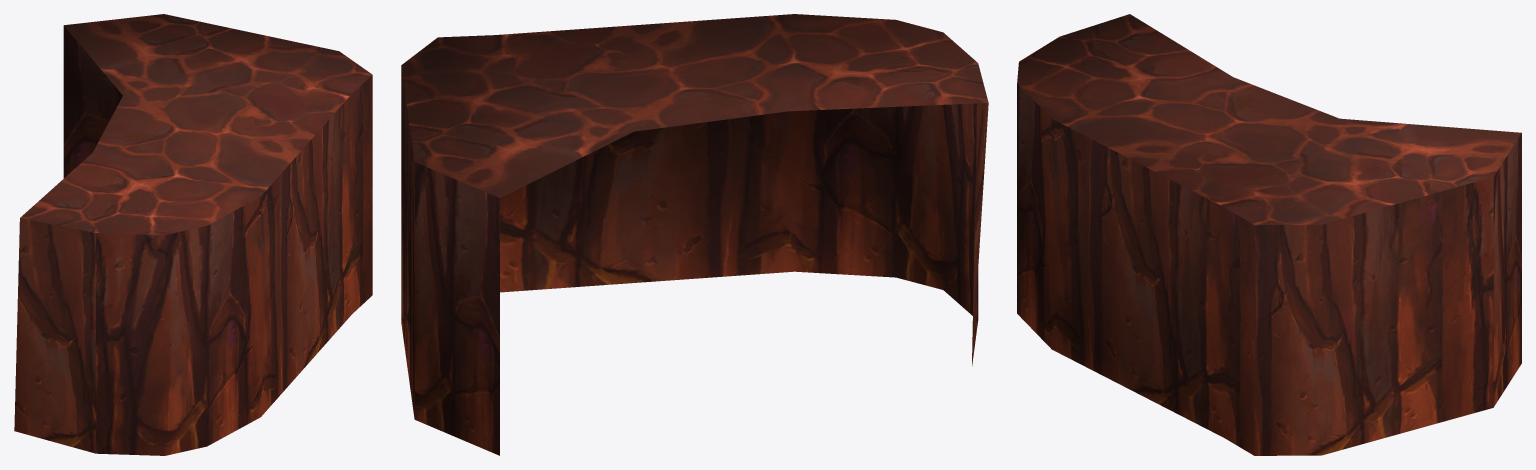
Rendered from terrain05.FBX.
The picture shows the model from 3 angles, left to right: view 1: azimuth 30°, elevation 25°; view 2: azimuth 150°, elevation 25°; view 3: azimuth 270°, elevation 25°; orthographic projection. The views are drawn at different scales.
Parts seen in each view (by area): view 1: terrain05; view 2: terrain05; view 3: terrain05.
Part boxes in pixels (x1,y1,x2,y2): terrain05: [14, 14, 372, 455]; terrain05: [401, 14, 988, 455]; terrain05: [1017, 14, 1521, 455].
Bounding box in the file's own units: 876 × 888 × 450.
